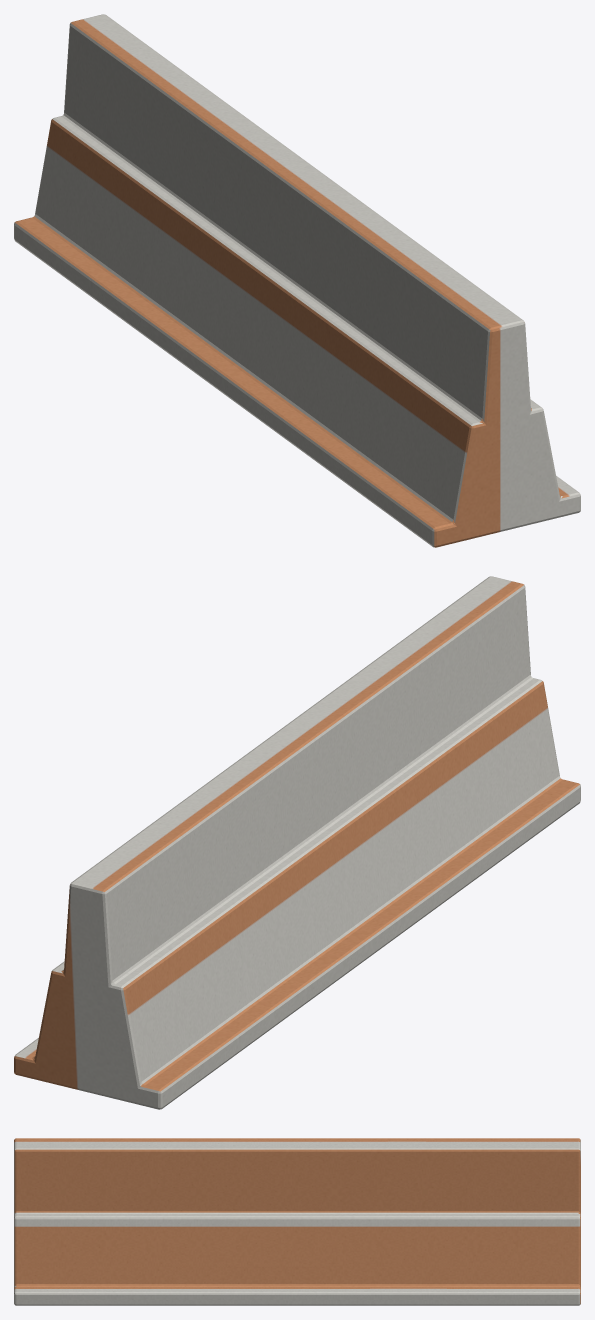
The model's file is krail_stripe_3m.dae.
The picture shows the model from 3 angles, top to bottom: view 1: azimuth 30°, elevation 25°; view 2: azimuth 150°, elevation 25°; view 3: azimuth 270°, elevation 25°; orthographic projection. The views are drawn at different scales.
Visible parts, largest first — view 1: krail; view 2: krail; view 3: krail.
Boxes of the visible parts, x1,y1,x2,y2 form: krail: (14, 14, 580, 547); krail: (14, 576, 580, 1109); krail: (14, 1138, 580, 1305).
Size of the model in its own units: 0.61 by 3 by 0.81.
1 material, 1 textured.
